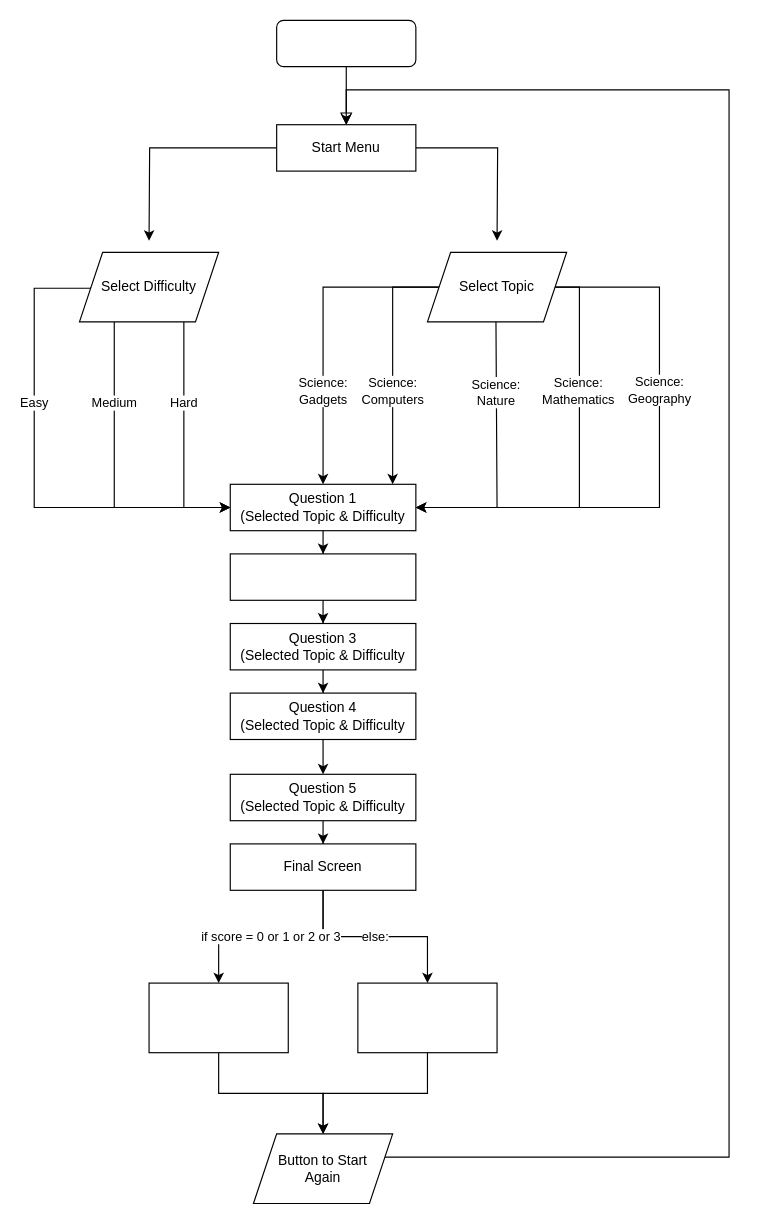
The diagram is 759 pixels wide and 1224 high, and some of its shapes have lost their labels. Each missing label, with the centre of its shape:
"App Starts" goes at (346,43).
"Congrats, You're a Trivia Master" goes at (427,1017).
"It's okay we learn! Let's Try Again!" goes at (218,1017).
"Question 2 (Selected Topic & Difficulty" goes at (322,576).
